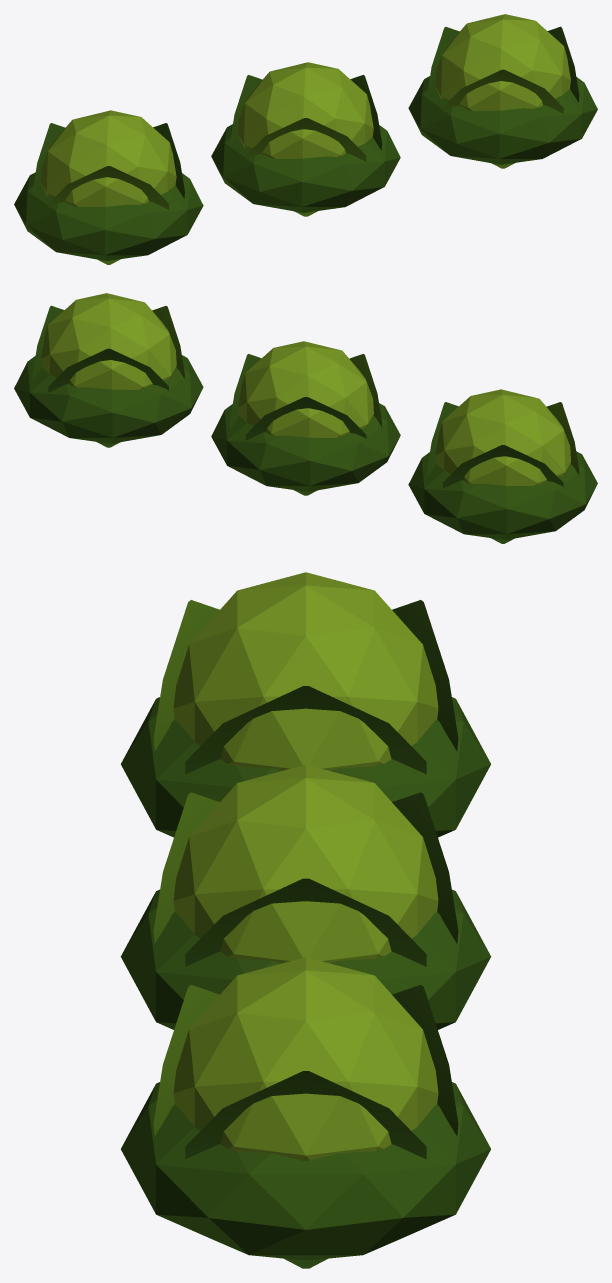
Rendered from pile-lettuce-3.obj.
3 views of the same model, one above another, from view 1: azimuth 30°, elevation 25°; view 2: azimuth 150°, elevation 25°; view 3: azimuth 270°, elevation 25° (orthographic). The views are drawn at different scales.
Parts seen in each view (by area): view 1: pile-lettuce-3; view 2: pile-lettuce-3; view 3: pile-lettuce-3.
Part boxes in pixels (x1,y1,x2,y2): pile-lettuce-3: [14, 14, 597, 264]; pile-lettuce-3: [14, 293, 597, 543]; pile-lettuce-3: [120, 572, 491, 1268].
Bounding box in the file's own units: 0.6816 × 0.1512 × 0.1953.
Materials: 1 (1 with a texture image).
